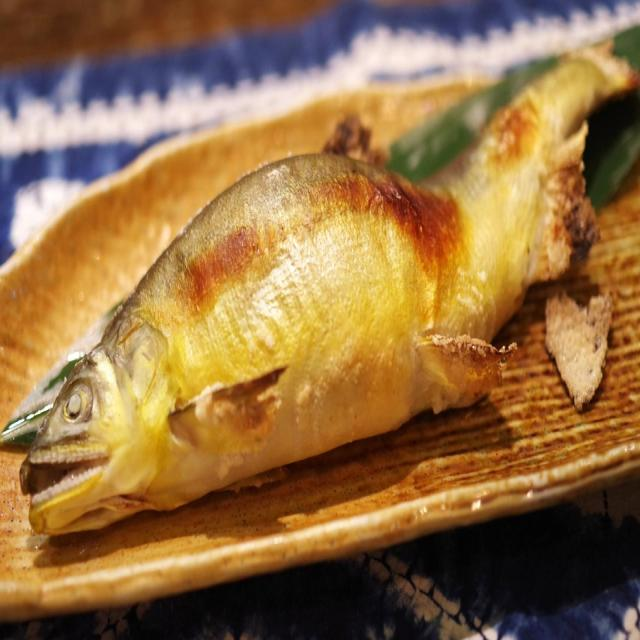pescado: (15, 70, 619, 561)
